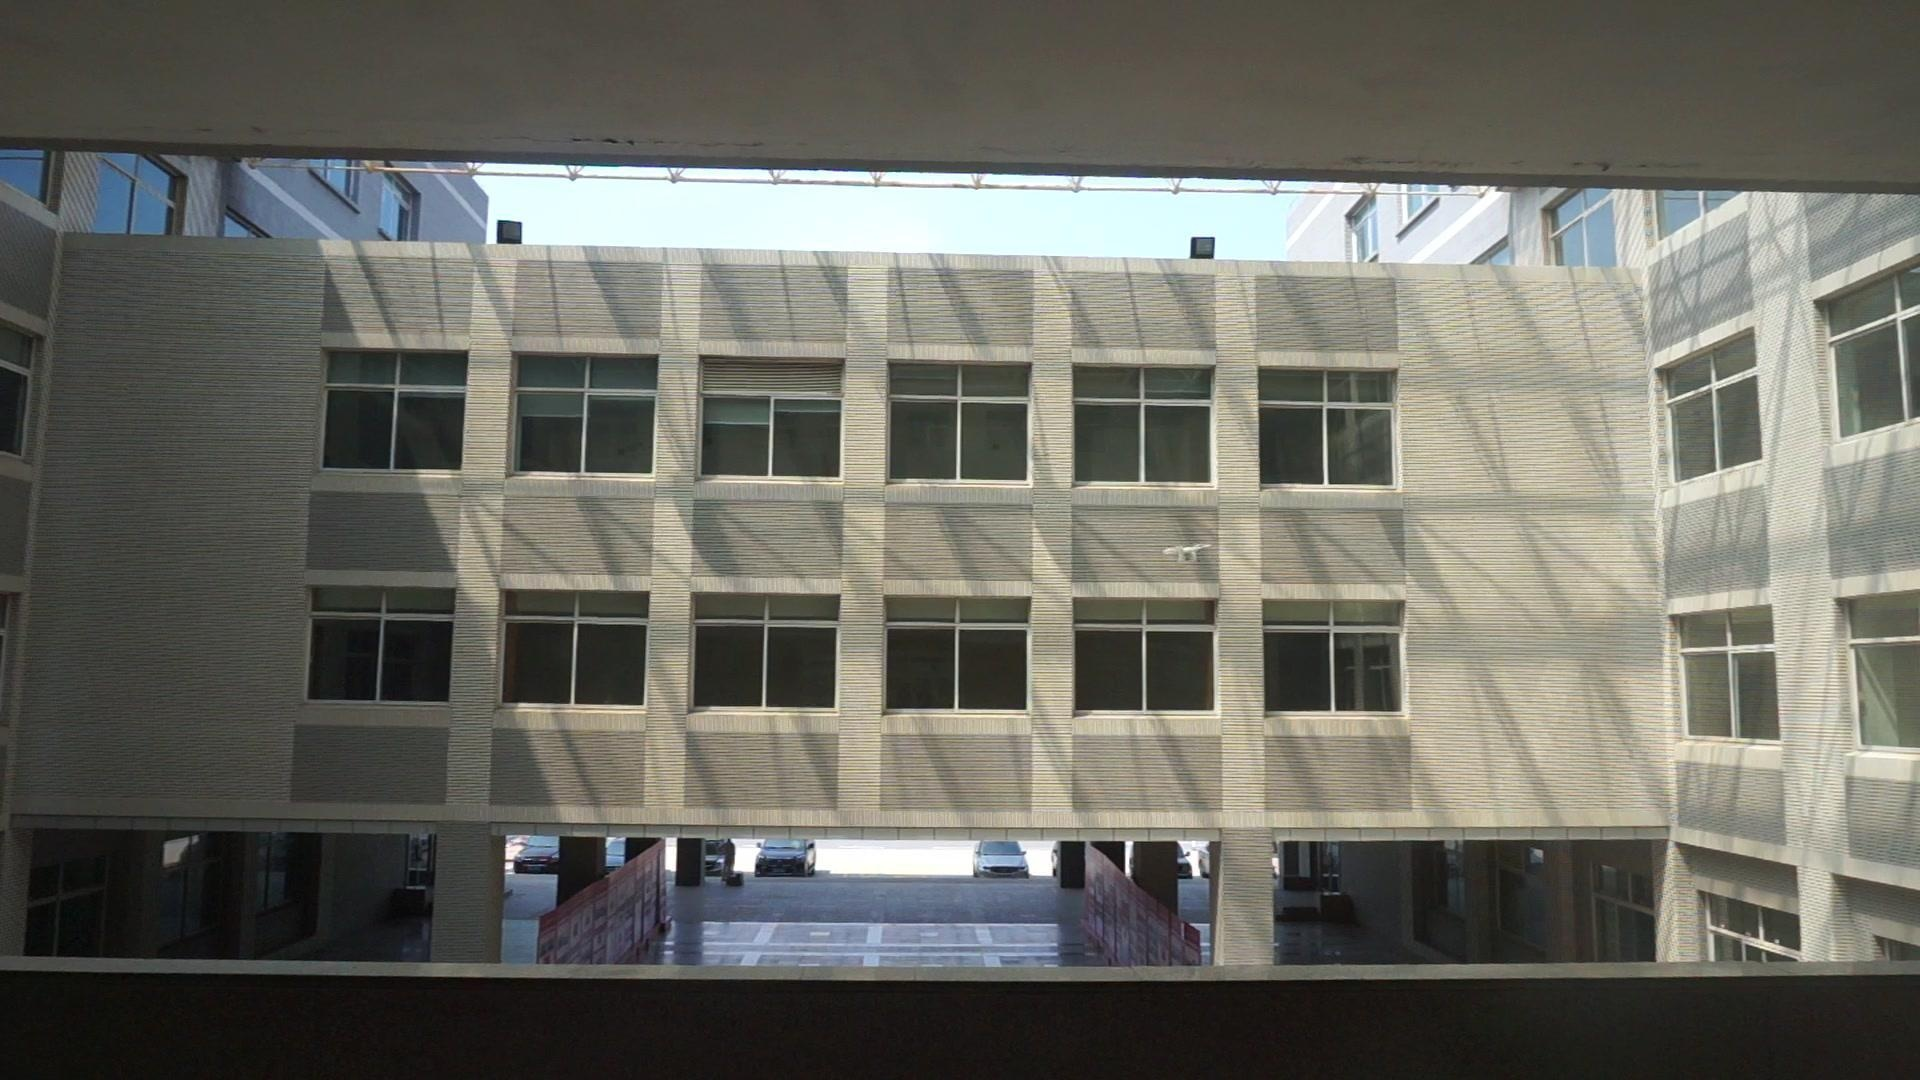UAV: (1162, 545, 1213, 562)
